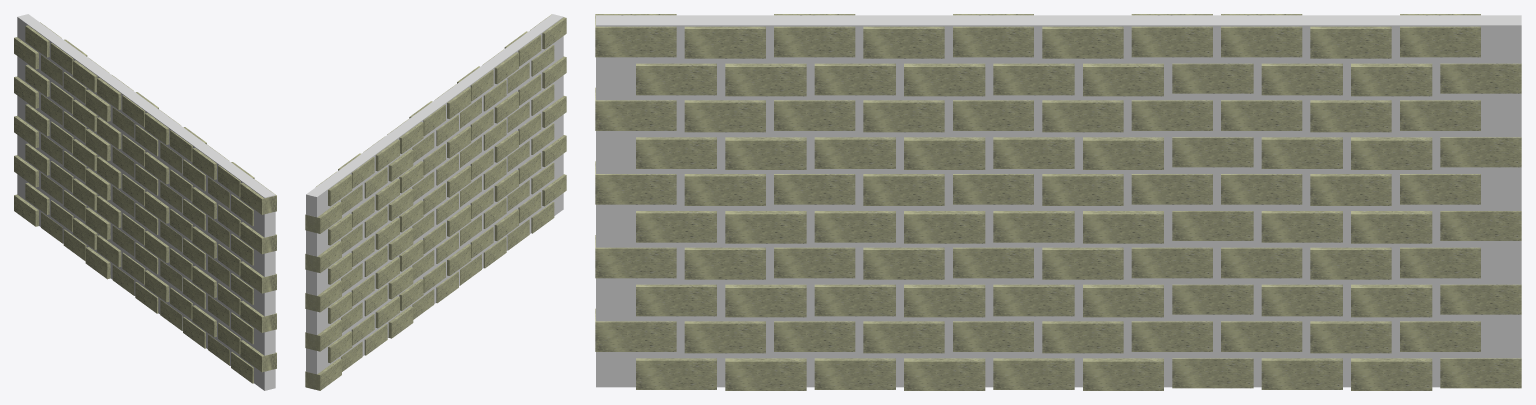
Rendered from BrickWallWithLargeBricksSolid.glb.
3 views of the same model, side by side, from view 1: azimuth 30°, elevation 25°; view 2: azimuth 150°, elevation 25°; view 3: azimuth 270°, elevation 25° (orthographic). The views are drawn at different scales.
Visible parts, largest first — view 1: BrickWallWithLargeBricksSolid; view 2: BrickWallWithLargeBricksSolid; view 3: BrickWallWithLargeBricksSolid.
Part boxes in pixels (left/top/right/bottom): BrickWallWithLargeBricksSolid: left=14, top=14, right=276, bottom=390; BrickWallWithLargeBricksSolid: left=305, top=14, right=566, bottom=390; BrickWallWithLargeBricksSolid: left=595, top=14, right=1521, bottom=390.
Size of the model in its own units: 0.4784 by 4.92 by 11.4.
2 materials, 1 textured.
